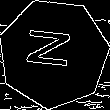N_E: (26, 31, 81, 76)
